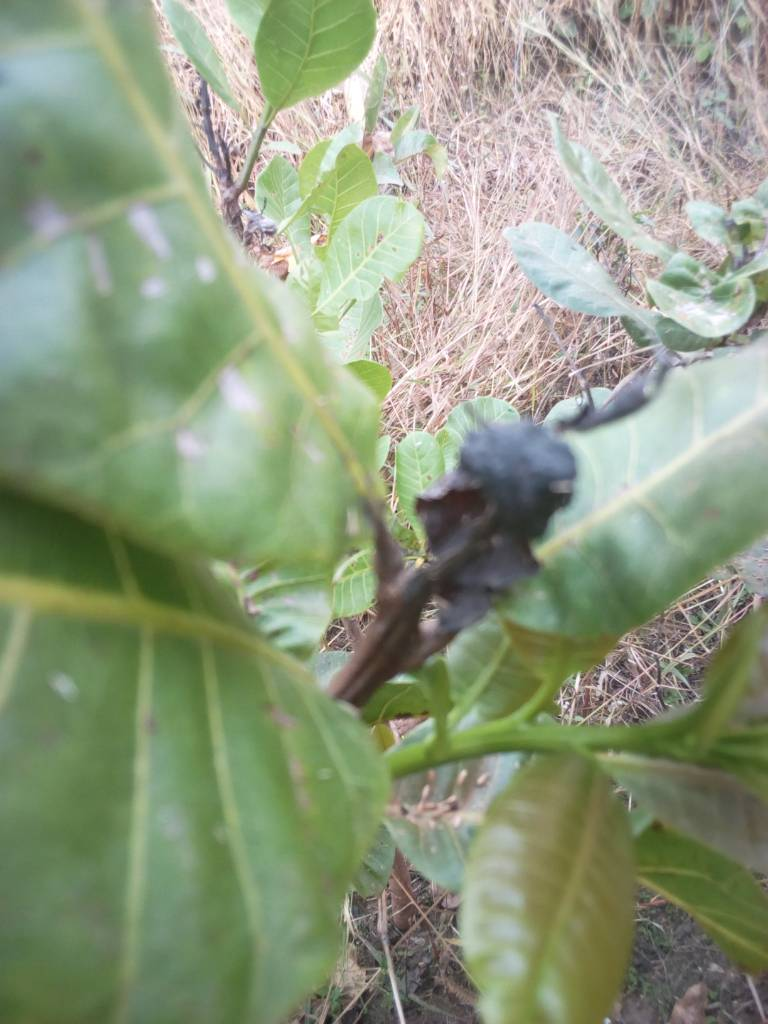Dessèchement des bourgeons: (350, 416, 583, 685)
